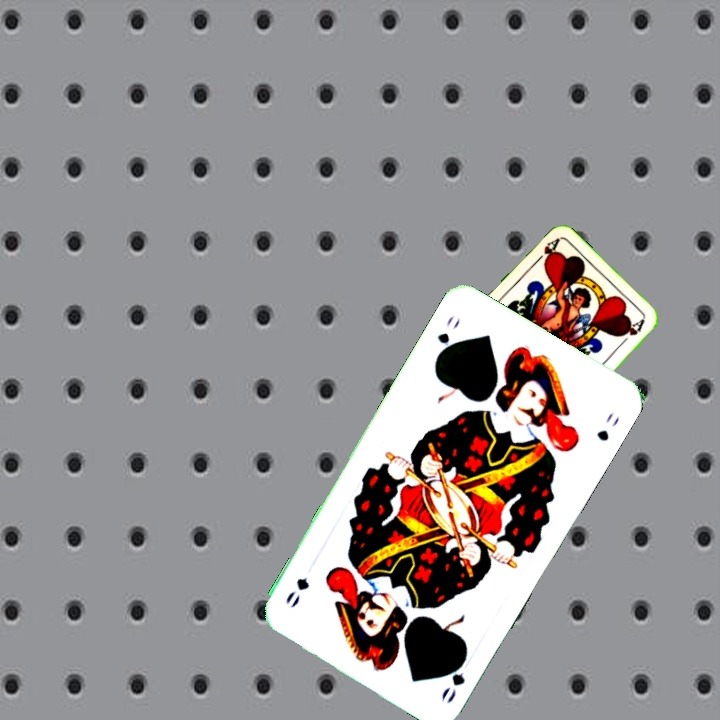GO: (437, 649, 471, 707), (431, 312, 464, 363)
HA: (529, 235, 561, 268)
